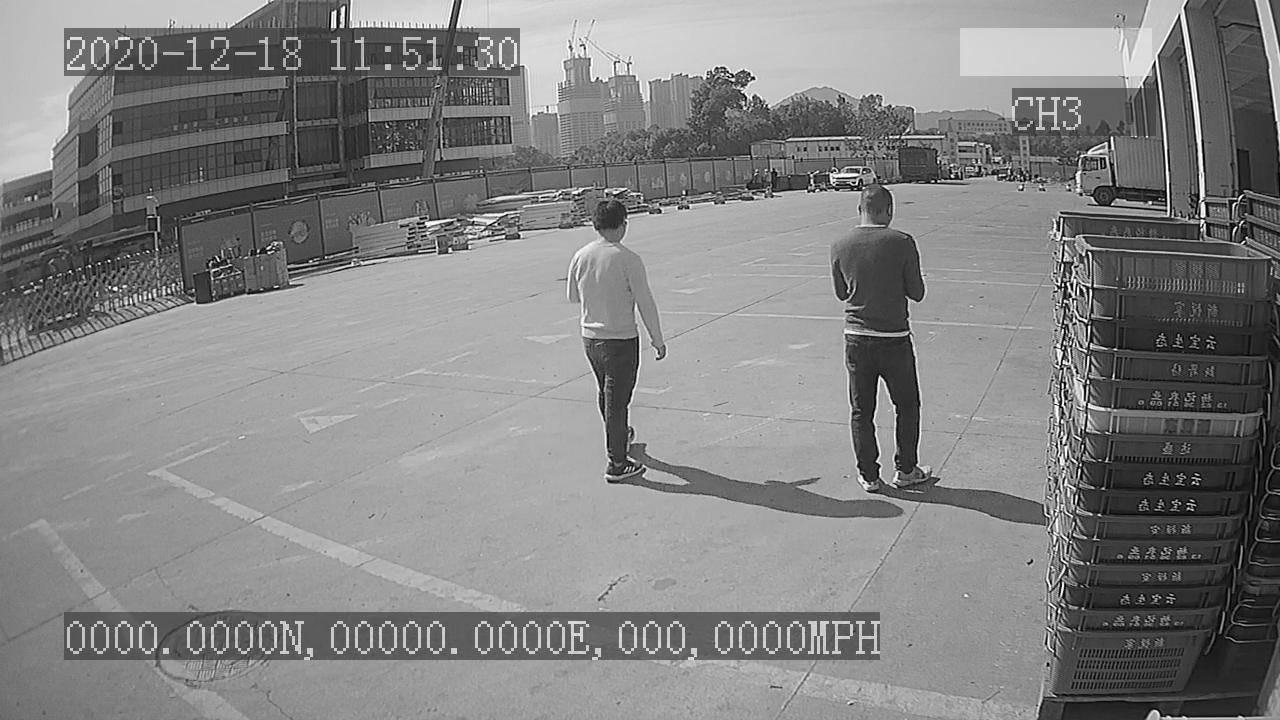person: (824, 176, 942, 497), (560, 194, 674, 486)
